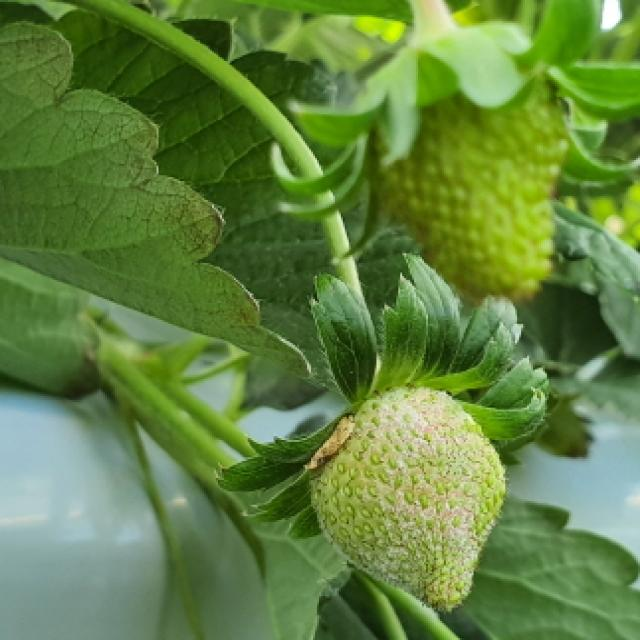Powdery Mildew Fruit: (311, 378, 505, 613)
